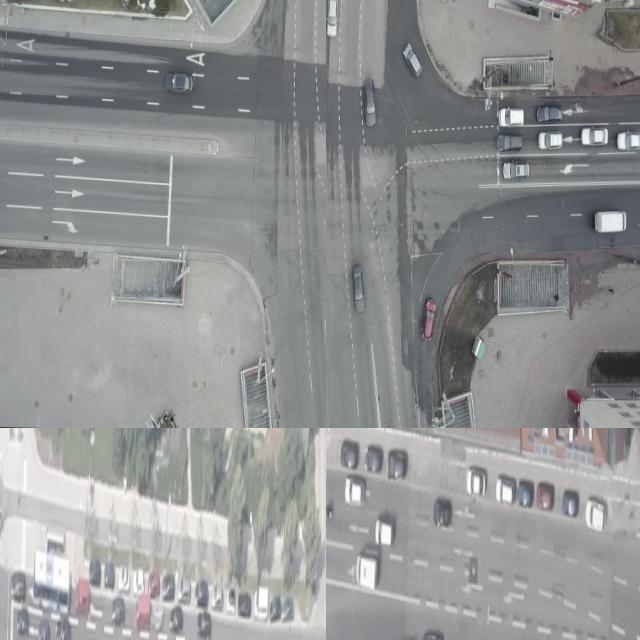UAI: (362, 76, 377, 128), (351, 263, 366, 313), (402, 42, 423, 77), (584, 498, 606, 531), (421, 297, 437, 341), (164, 71, 193, 94), (502, 159, 530, 182), (387, 448, 407, 479), (339, 437, 359, 468), (580, 125, 608, 147), (497, 106, 524, 128), (374, 517, 394, 546), (496, 131, 522, 153), (537, 129, 563, 151), (74, 579, 89, 616), (536, 480, 555, 509), (134, 596, 150, 630), (535, 104, 562, 124), (344, 479, 364, 506), (466, 469, 486, 496), (616, 130, 640, 152), (516, 477, 533, 508), (561, 488, 579, 517), (196, 608, 212, 640), (495, 477, 514, 503), (364, 444, 381, 473), (433, 499, 451, 526), (10, 569, 25, 601), (253, 586, 267, 620), (326, 0, 338, 37), (177, 573, 190, 605), (110, 597, 124, 626), (170, 605, 183, 634), (195, 578, 208, 607), (16, 607, 28, 637), (162, 573, 174, 603), (237, 590, 250, 617), (281, 596, 294, 622), (54, 619, 70, 640), (148, 569, 159, 598), (133, 566, 144, 595), (118, 565, 129, 592), (89, 559, 100, 585), (270, 593, 280, 620), (104, 562, 114, 589), (38, 618, 49, 640), (212, 585, 222, 609), (153, 604, 162, 630), (226, 586, 235, 612), (422, 631, 443, 640)
car: (32, 548, 70, 613)
harvester: (355, 550, 378, 588), (594, 209, 627, 233)
